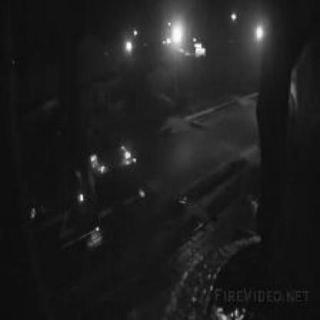other: (80, 149, 147, 175), (156, 16, 196, 56), (225, 11, 271, 45), (115, 16, 147, 58)
